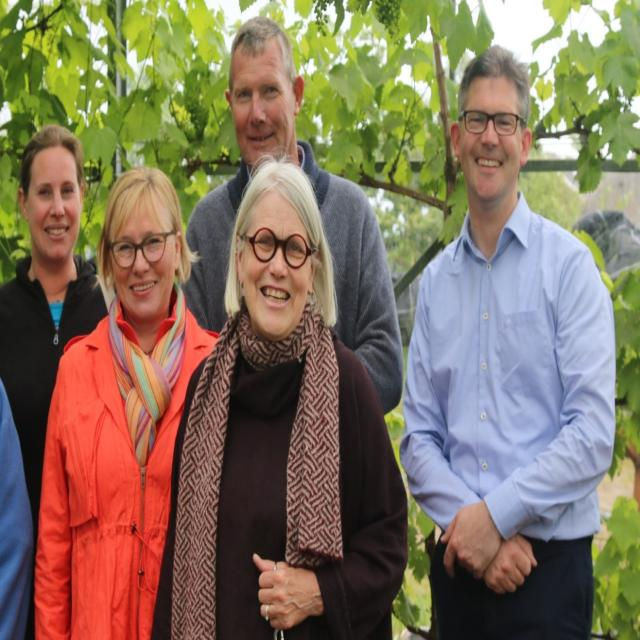body: (395, 45, 626, 640), (148, 150, 413, 639), (178, 14, 407, 423), (32, 161, 224, 640), (0, 121, 115, 639), (0, 346, 38, 640)
